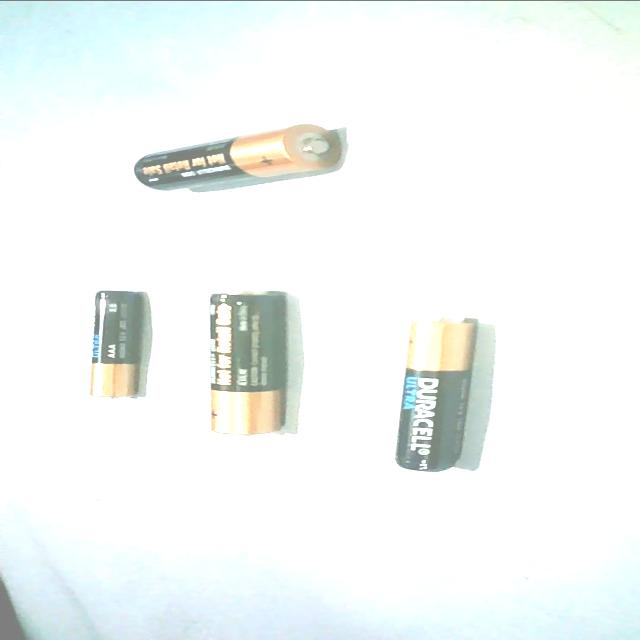AA: (195, 282, 298, 440), (125, 119, 347, 192)
AAA: (384, 310, 490, 476), (80, 286, 154, 402)
